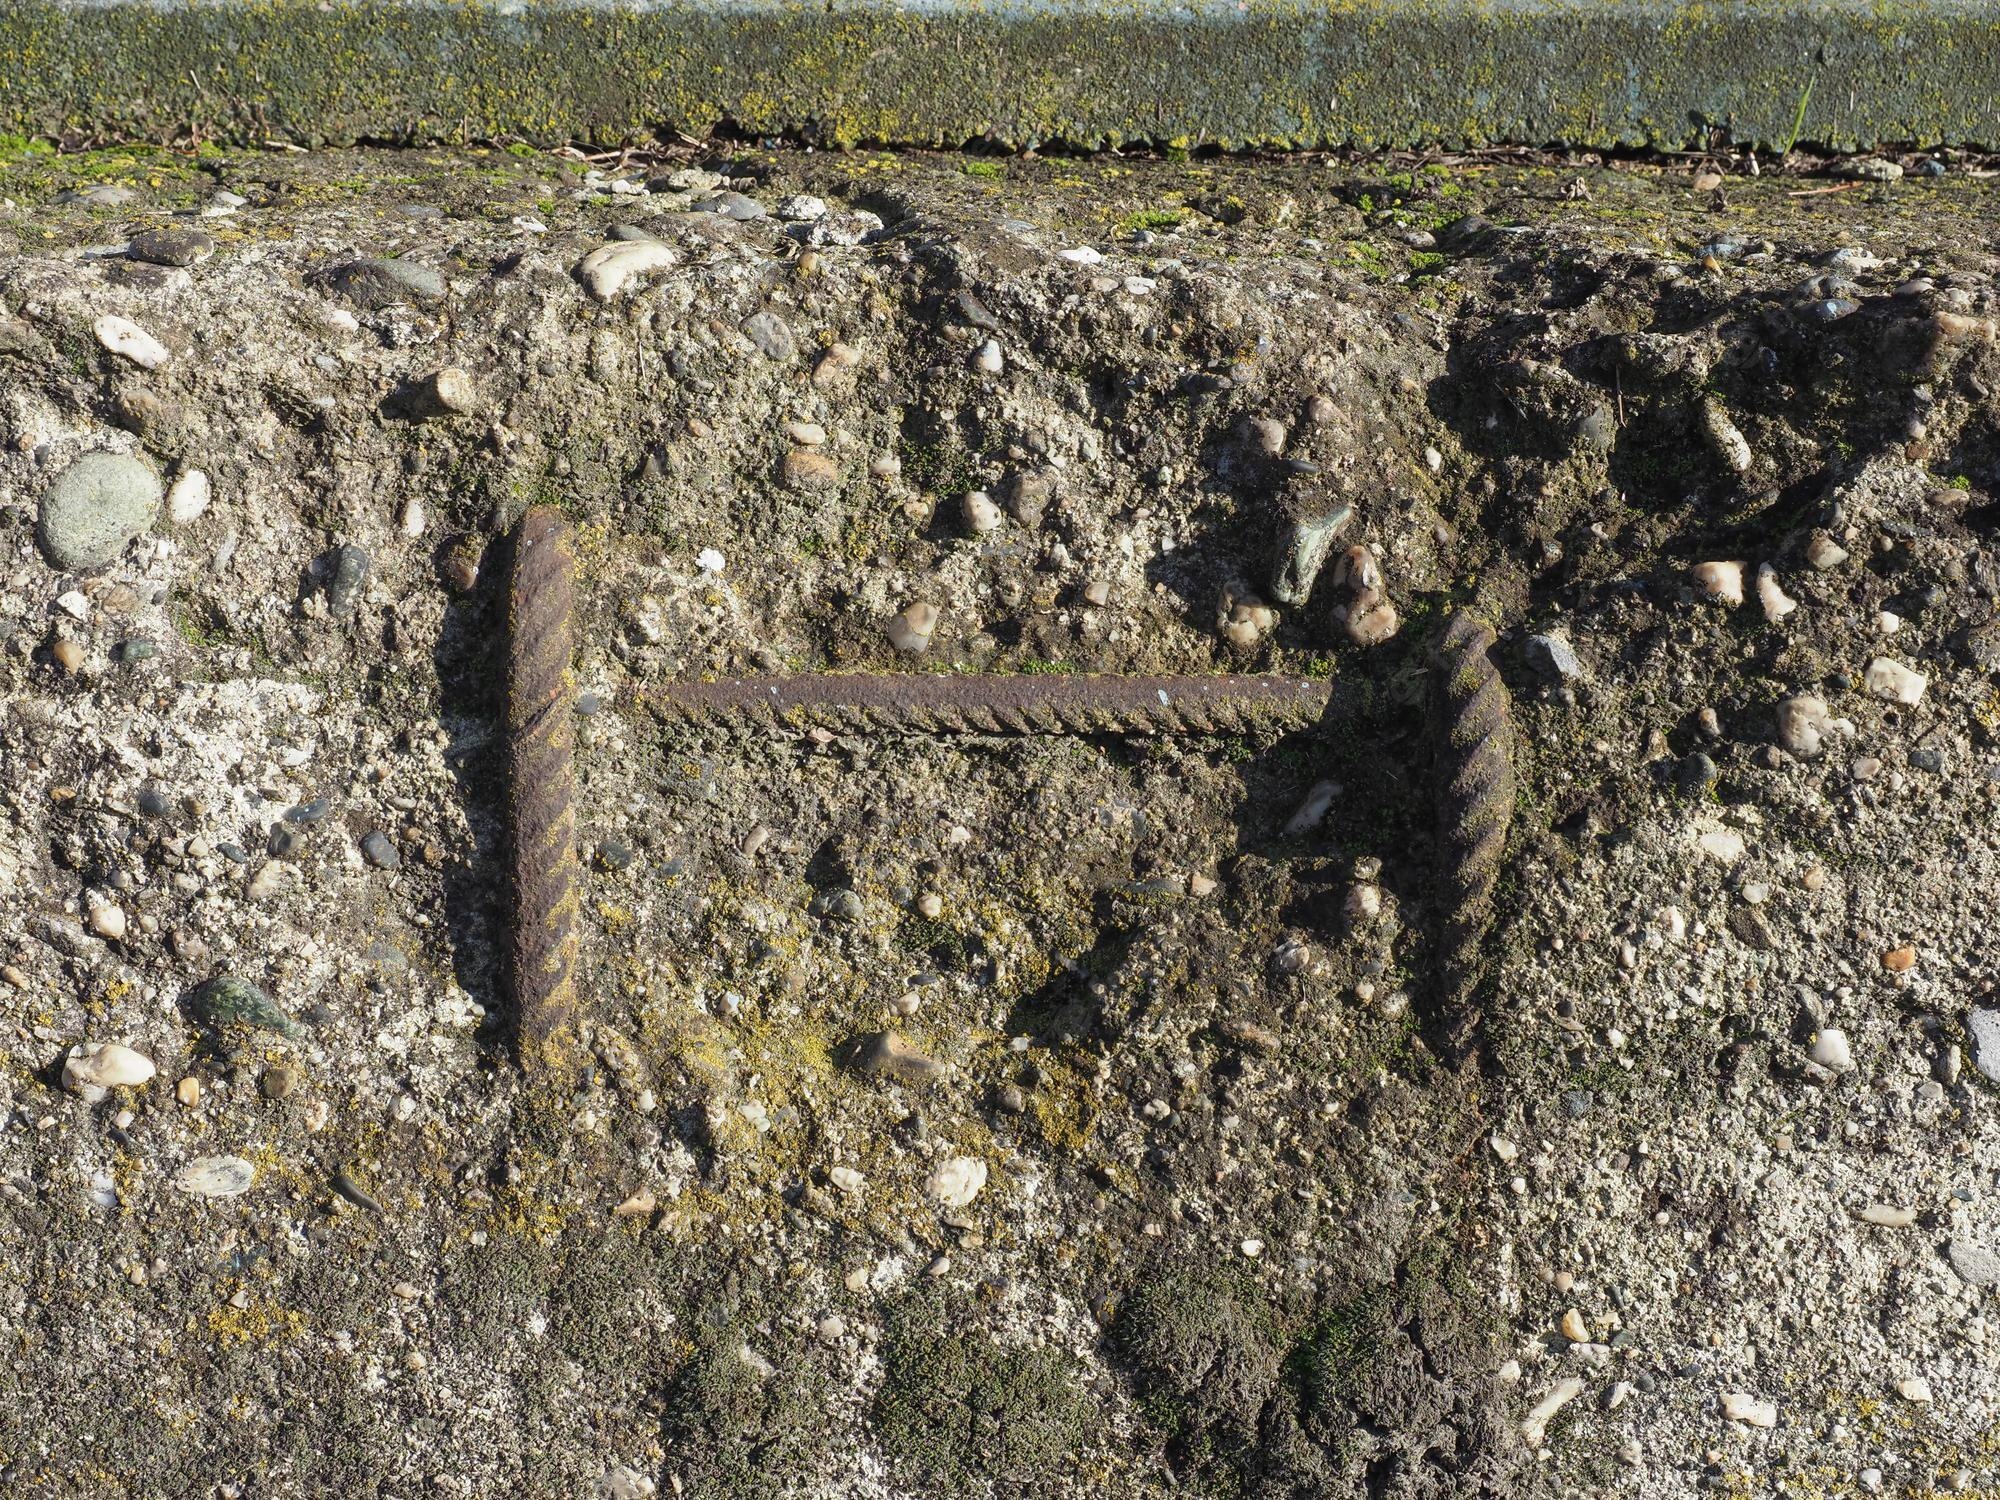Crack: (346, 113, 2000, 184)
Exposed reinforcement: (606, 670, 1339, 745), (504, 503, 580, 1056), (1438, 603, 1517, 1064)
Spalling: (2, 235, 2000, 1089)
